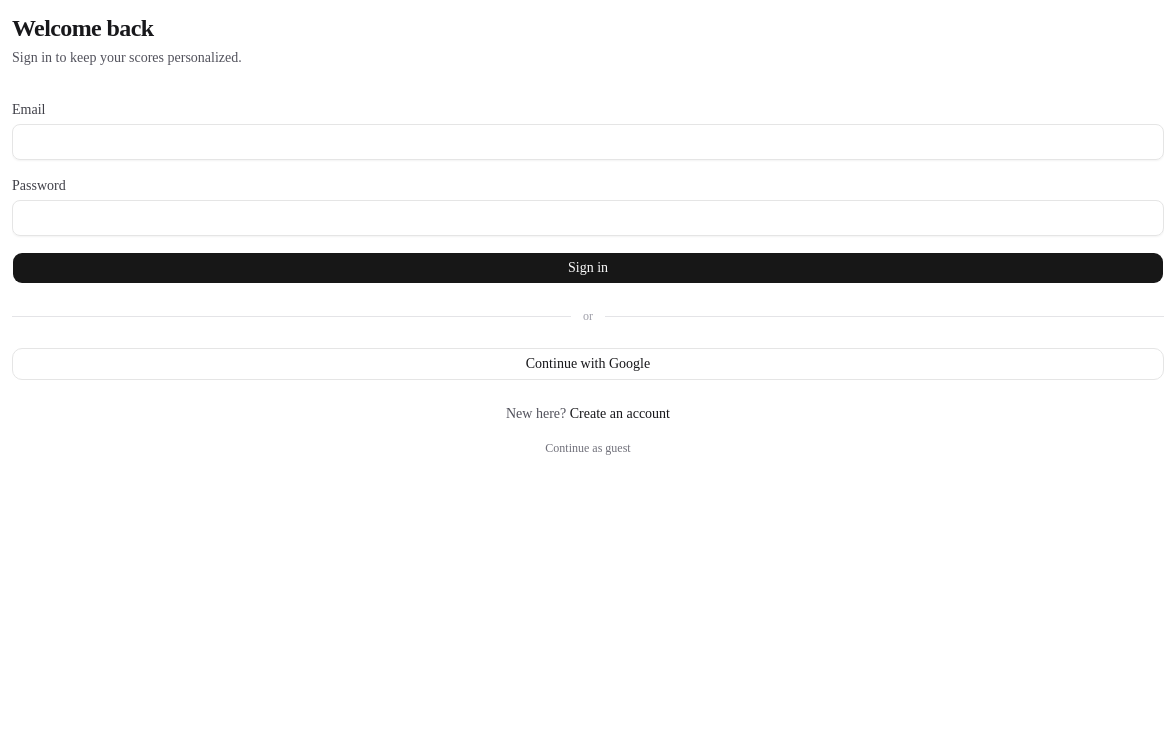
Test: LoginForm — sign up (happy path) › surfaces signUp errors inline (e.g. weak/duplicate)
This screenshot has width=1176, height=732.
Click the button "Create an account".
click(620, 414)  # box [570, 404, 670, 424]
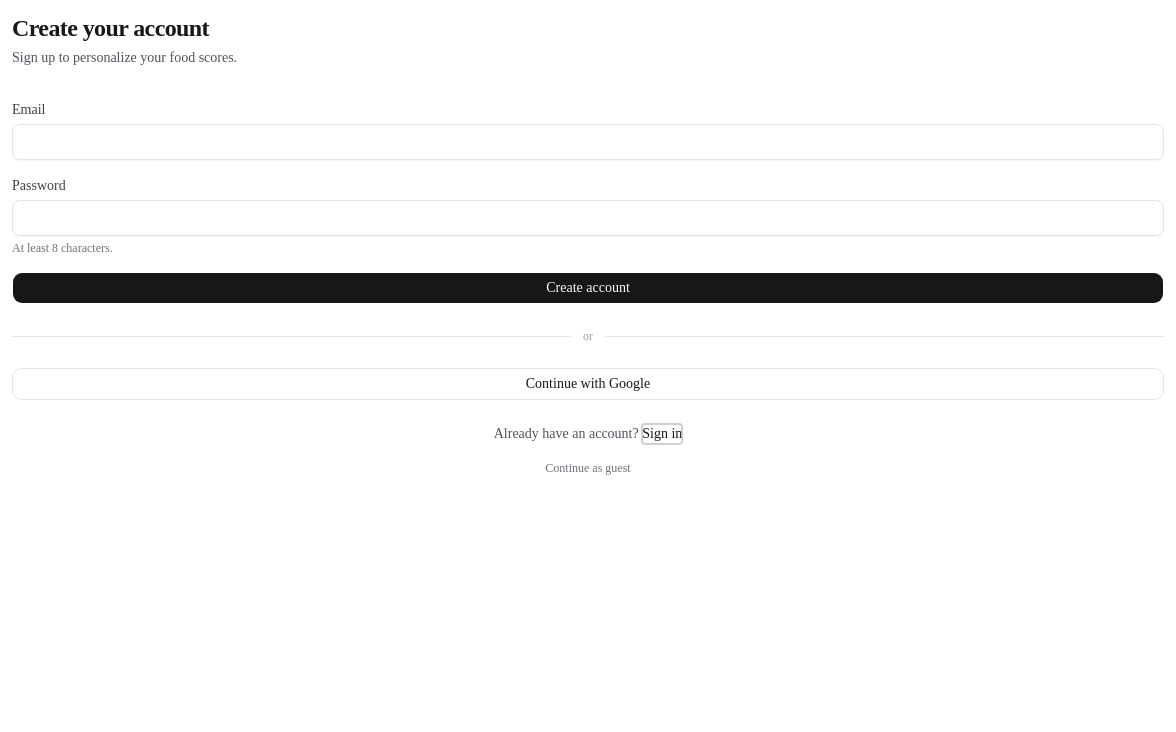
Type "dup@example.com" into the field labelled "Email".
click(588, 142); type("dup@example.com")  # box [12, 124, 1164, 160]
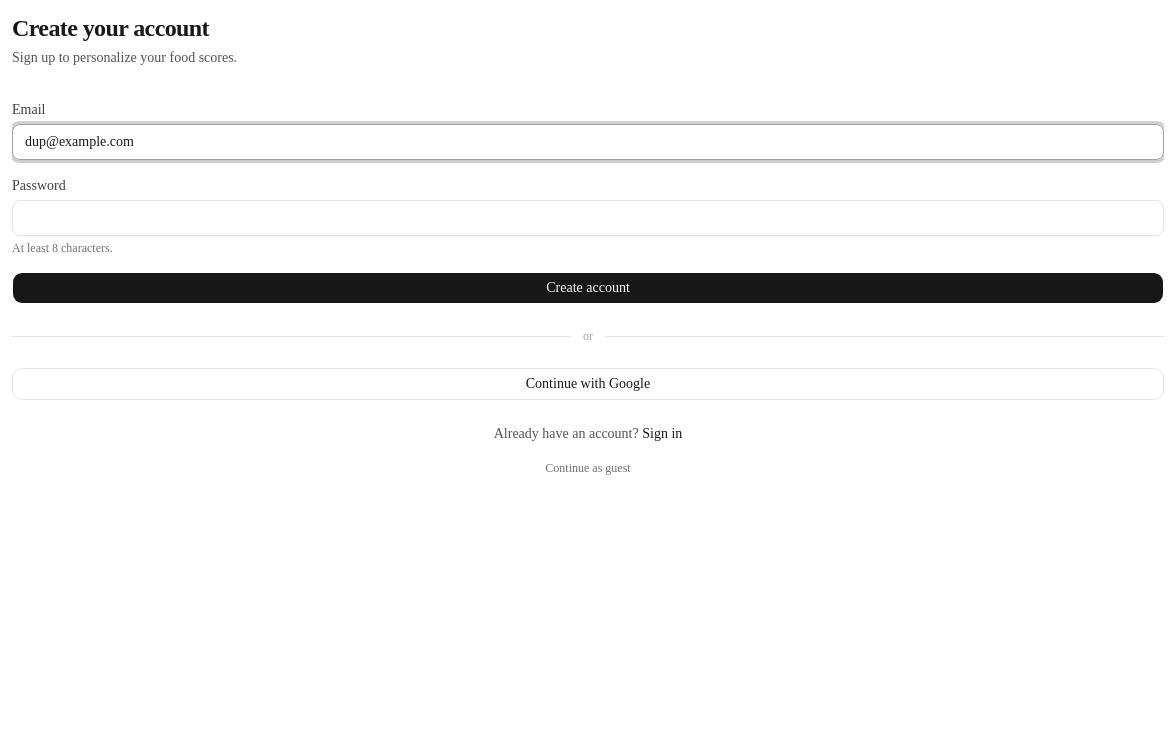
Type "correcthorse" into the password field labelled "Password At least 8 characters.".
click(588, 218); type("correcthorse")  # box [12, 200, 1164, 236]
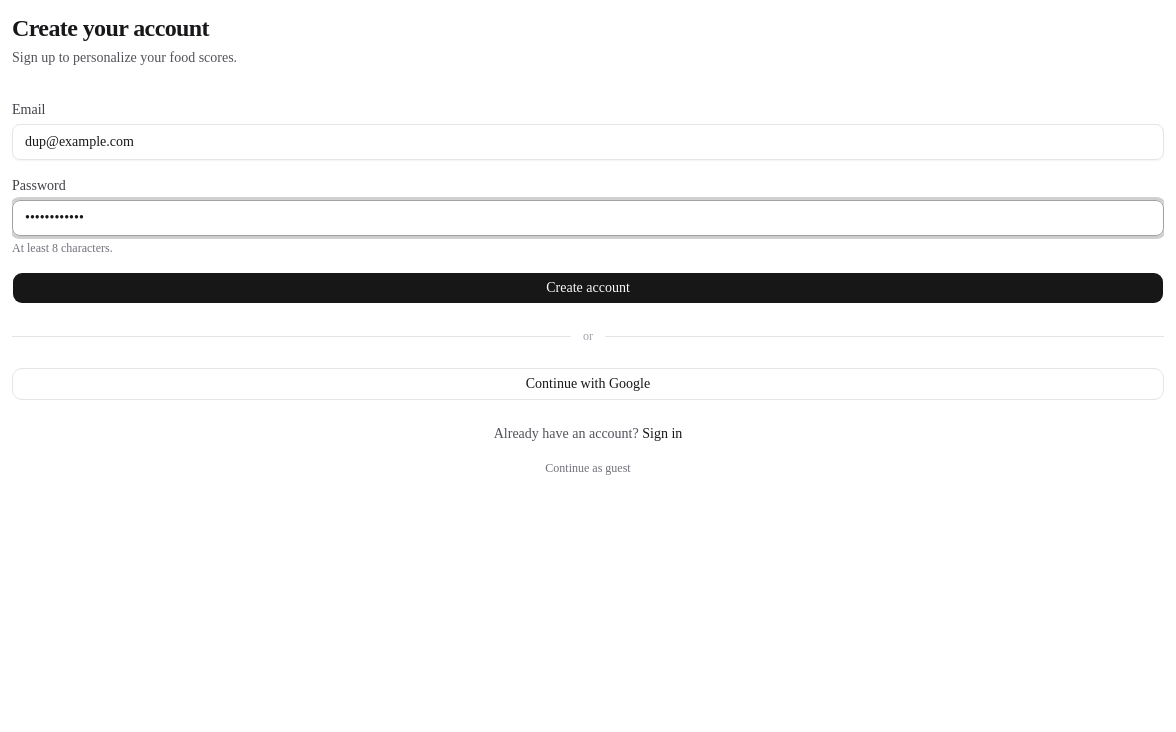
Click the button "Create account".
click(588, 288)  # box [12, 272, 1164, 304]
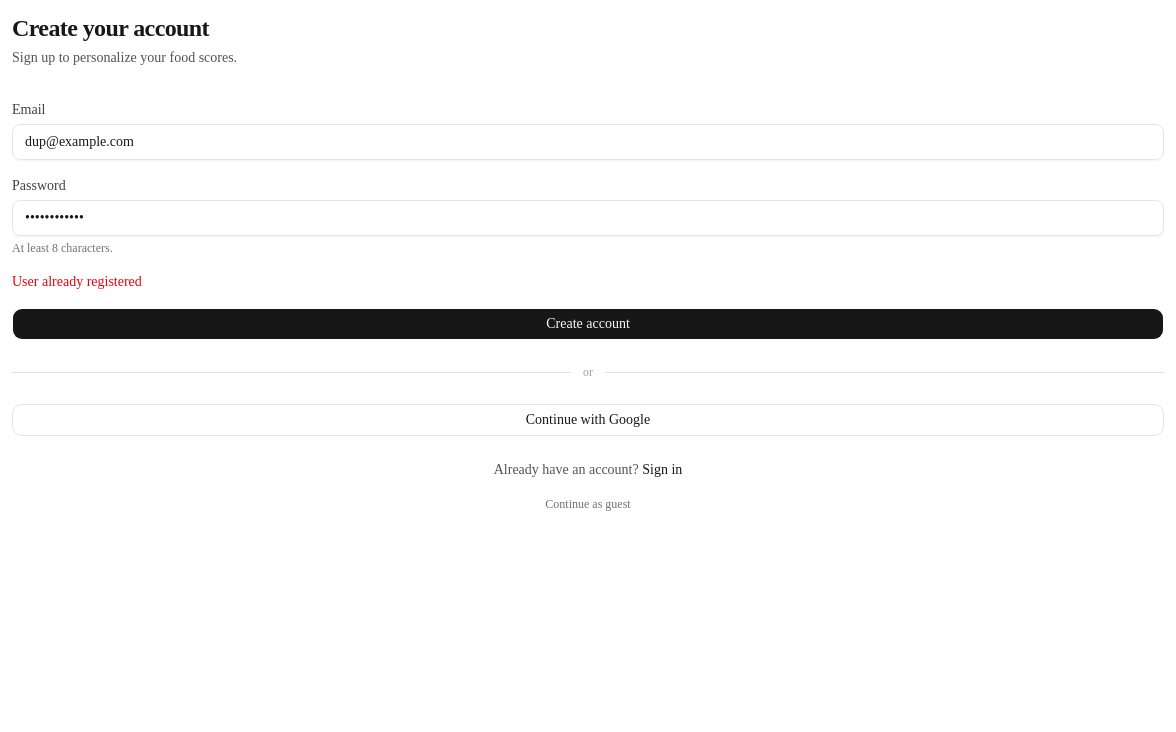
Expected: the message reads "User already registered", [12, 274, 142, 289]
